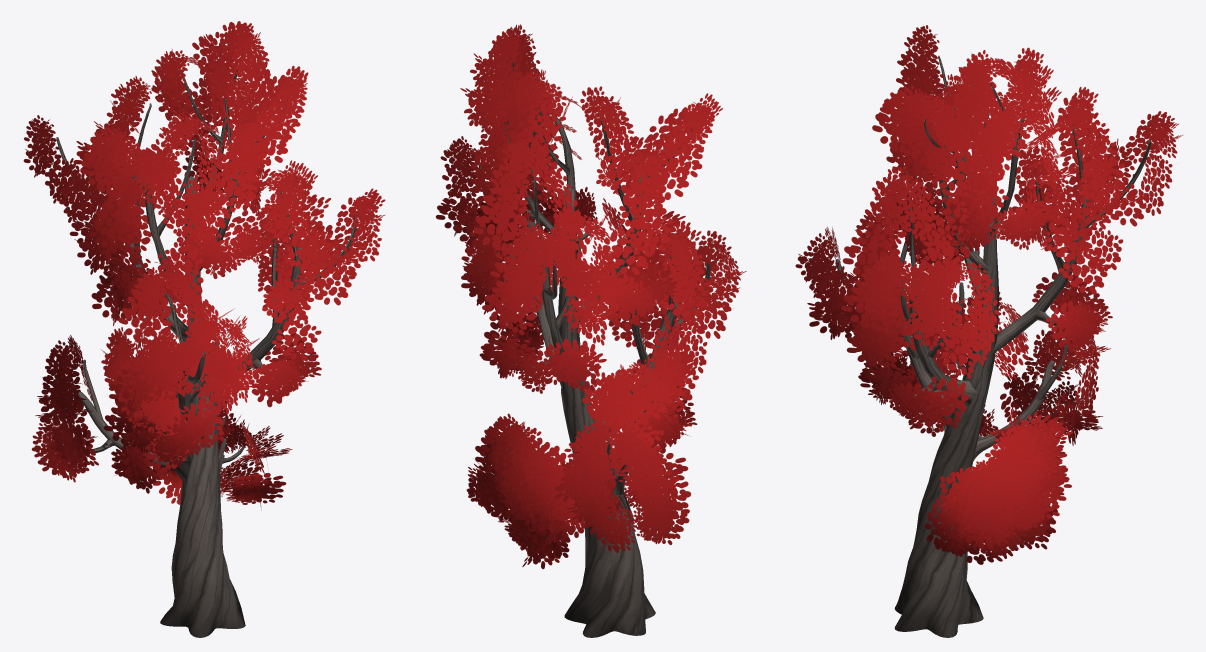
Rendered from fruit-tree-plum.glb.
The picture shows the model from 3 angles, left to right: view 1: azimuth 30°, elevation 25°; view 2: azimuth 150°, elevation 25°; view 3: azimuth 270°, elevation 25°; orthographic projection. The views are drawn at different scales.
Visible parts, largest first — view 1: TwistedTree_4; view 2: TwistedTree_4; view 3: TwistedTree_4.
Part boxes in pixels (x1,y1,x2,y2): TwistedTree_4: (23,21,385,637); TwistedTree_4: (436,24,746,637); TwistedTree_4: (795,25,1182,637).
Bounding box in the file's own units: 10.38 × 18.74 × 11.29.
Materials: 2 (2 with a texture image).
